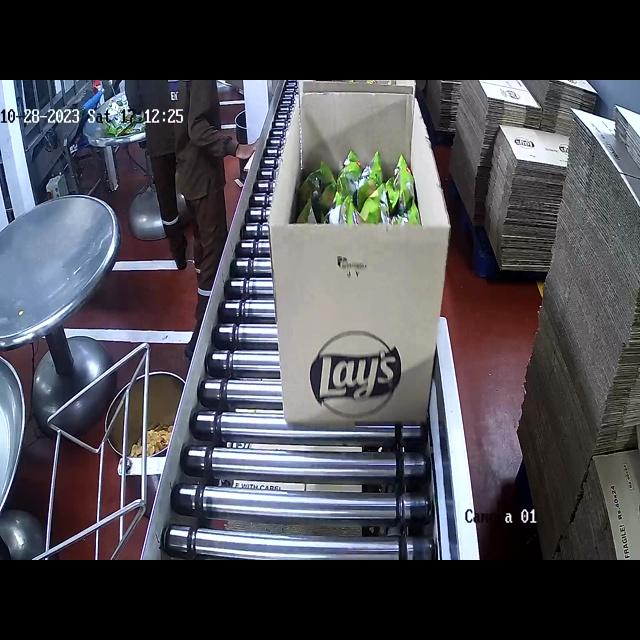yogurt: (305, 158, 421, 231)
